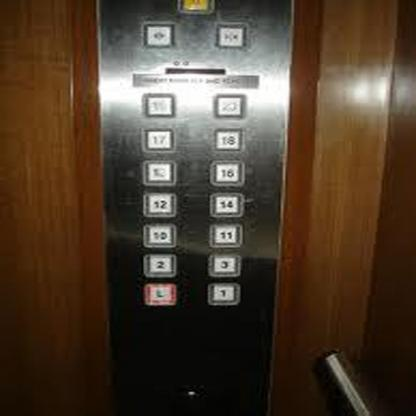1: (205, 282, 241, 306)
10: (141, 222, 176, 247)
11: (207, 222, 244, 247)
12: (140, 191, 177, 217)
14: (208, 192, 244, 217)
16: (206, 159, 244, 187)
17: (139, 127, 175, 152)
18: (210, 126, 244, 152)
2: (140, 251, 178, 277)
3: (204, 253, 242, 277)
L: (140, 281, 176, 307)
blur: (140, 159, 175, 187), (211, 92, 246, 119), (140, 92, 176, 117)
close: (212, 21, 247, 48)
open: (140, 21, 174, 47)
